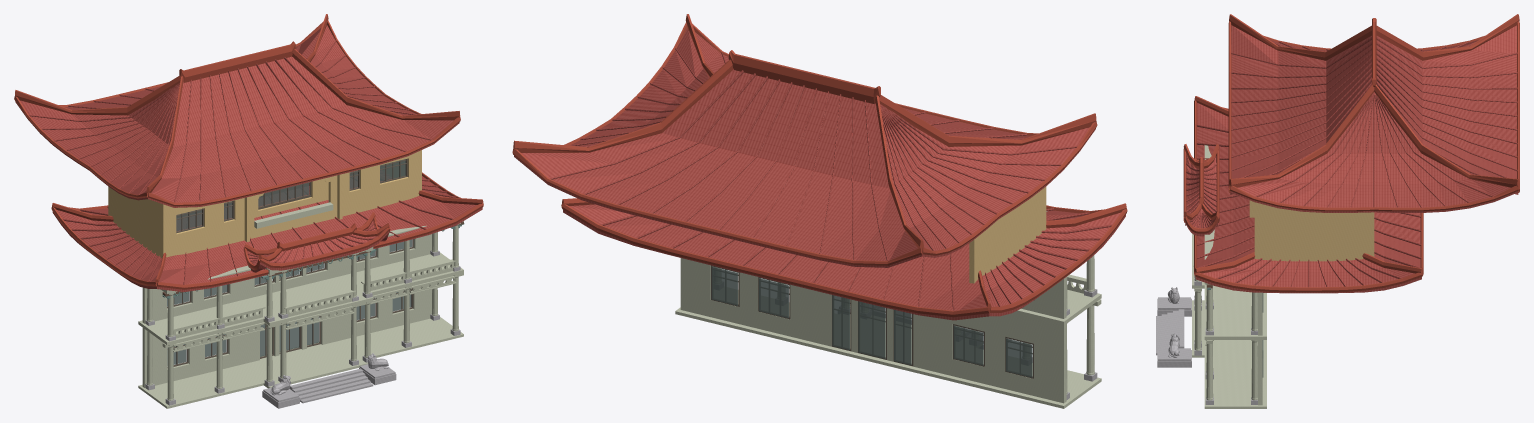
Rendered from changning-xinhua-200-chen-guofu-residence-lod.glb.
3 renders of one model, left to right at view 1: azimuth 30°, elevation 25°; view 2: azimuth 150°, elevation 25°; view 3: azimuth 270°, elevation 25°, orthographic. The views are drawn at different scales.
Visible parts, largest first — view 1: 新华路200号陈果夫住宅南面重檐外廊; view 2: 新华路200号陈果夫住宅南面重檐外廊; view 3: 新华路200号陈果夫住宅南面重檐外廊.
Part boxes in pixels (bbox=[...]): 新华路200号陈果夫住宅南面重檐外廊: bbox=[14, 14, 483, 408]; 新华路200号陈果夫住宅南面重檐外廊: bbox=[512, 14, 1127, 408]; 新华路200号陈果夫住宅南面重檐外廊: bbox=[1156, 14, 1519, 408].
Size of the model in its own units: 24.64 by 19.08 by 21.79.
Materials: 9 (4 with a texture image).
